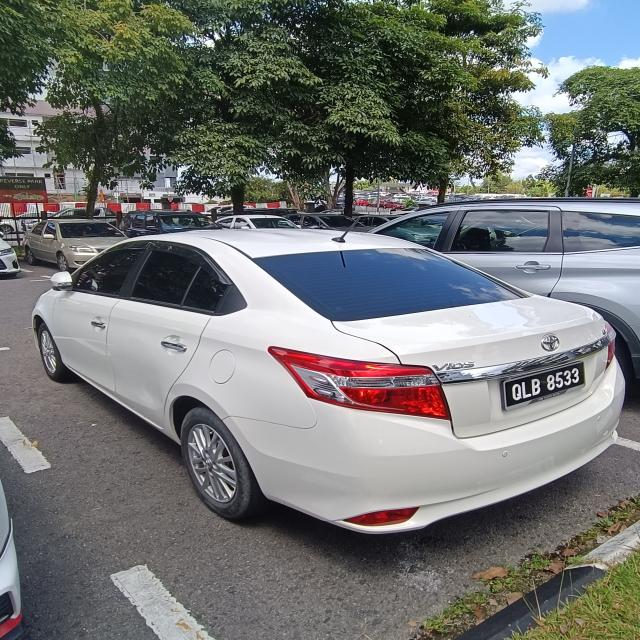ToyotaVios: (30, 225, 627, 535)
